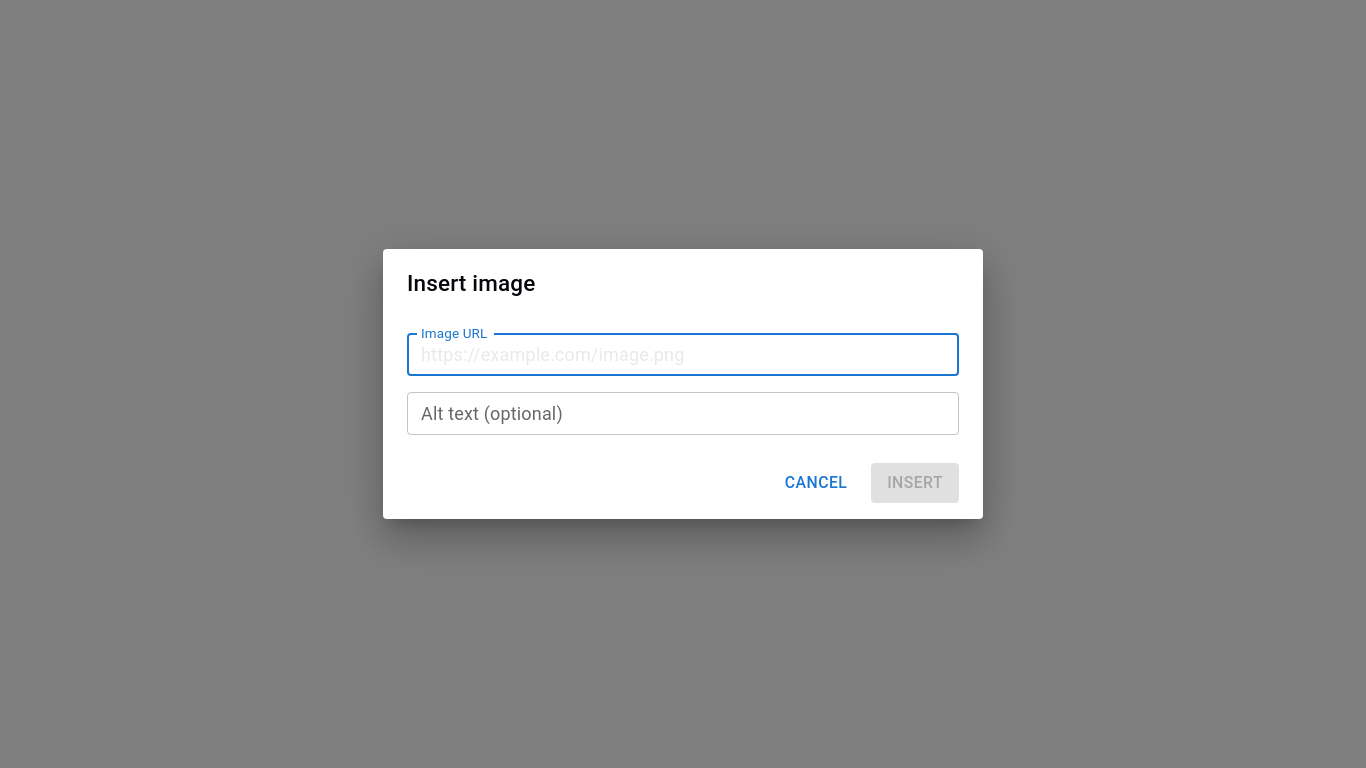
Scenario: RichTextEditorImageDialog › disables Save button until a URL is entered
The width and height of the screenshot is (1366, 768).
Expected: the button "Insert" is disabled, [871, 463, 959, 503]
Type "https://example.com/cat.png" into the field labelled "Image URL" at (683, 355), box [407, 333, 959, 376]
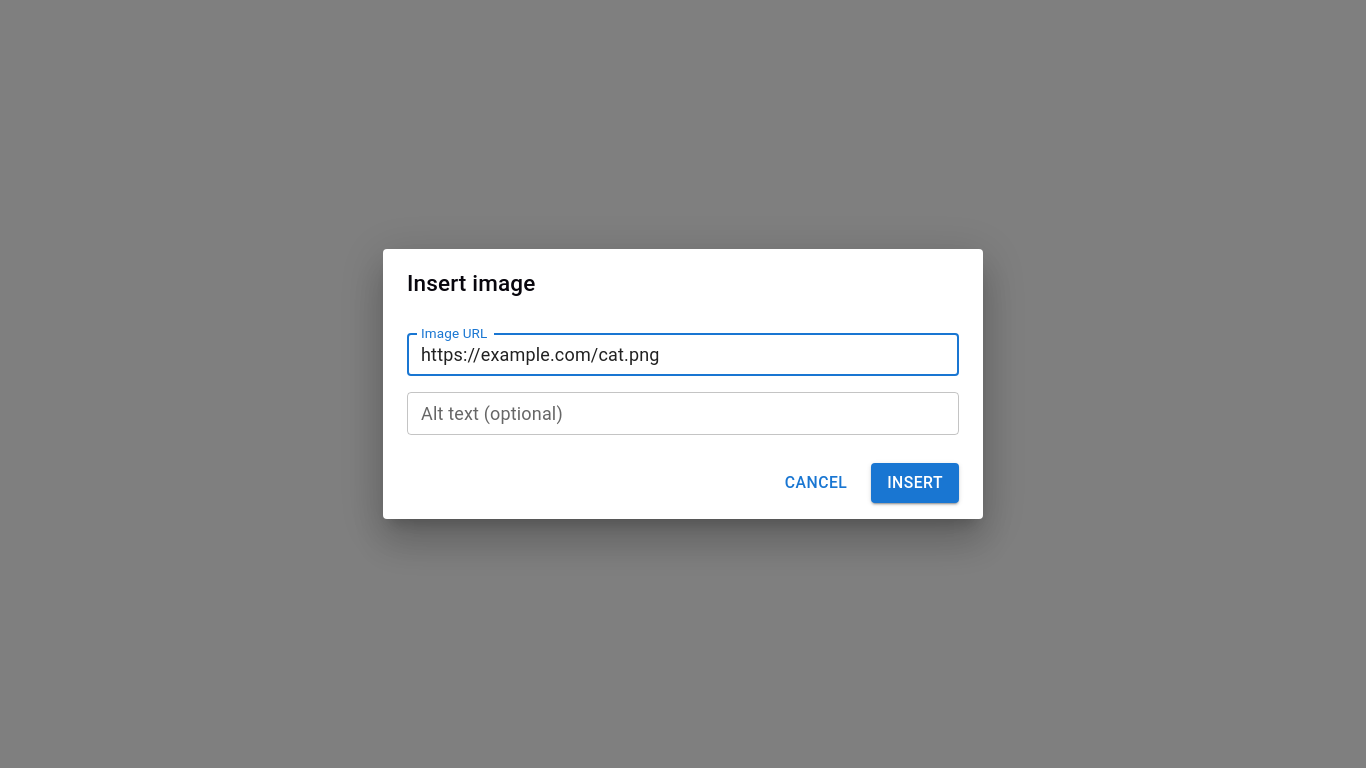
Result: the button "Insert" is enabled at [871, 463, 959, 503]
